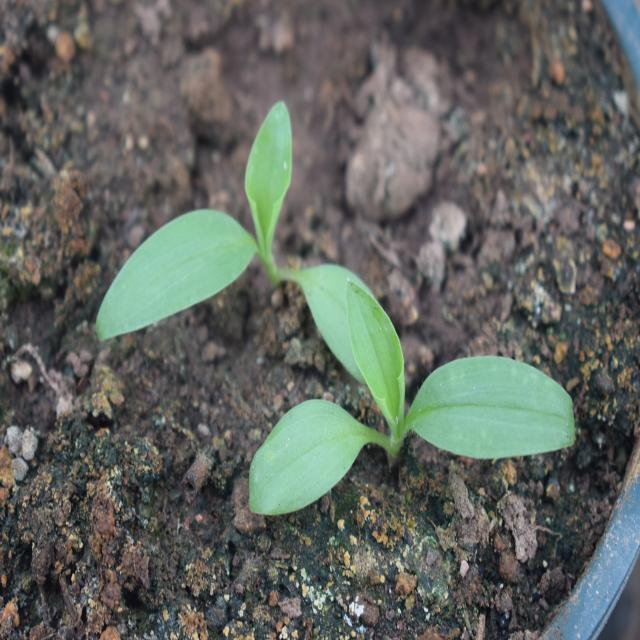Common Dayflower: (255, 287, 595, 523), (102, 118, 347, 356)
